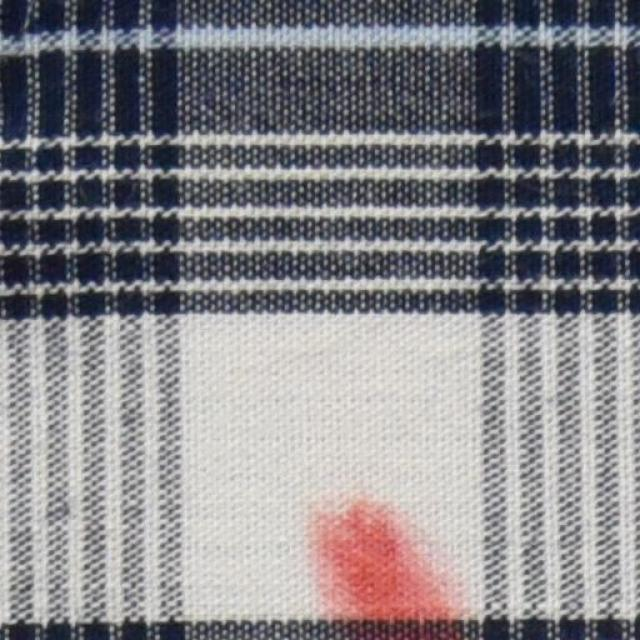Stain: (307, 489, 487, 639)
